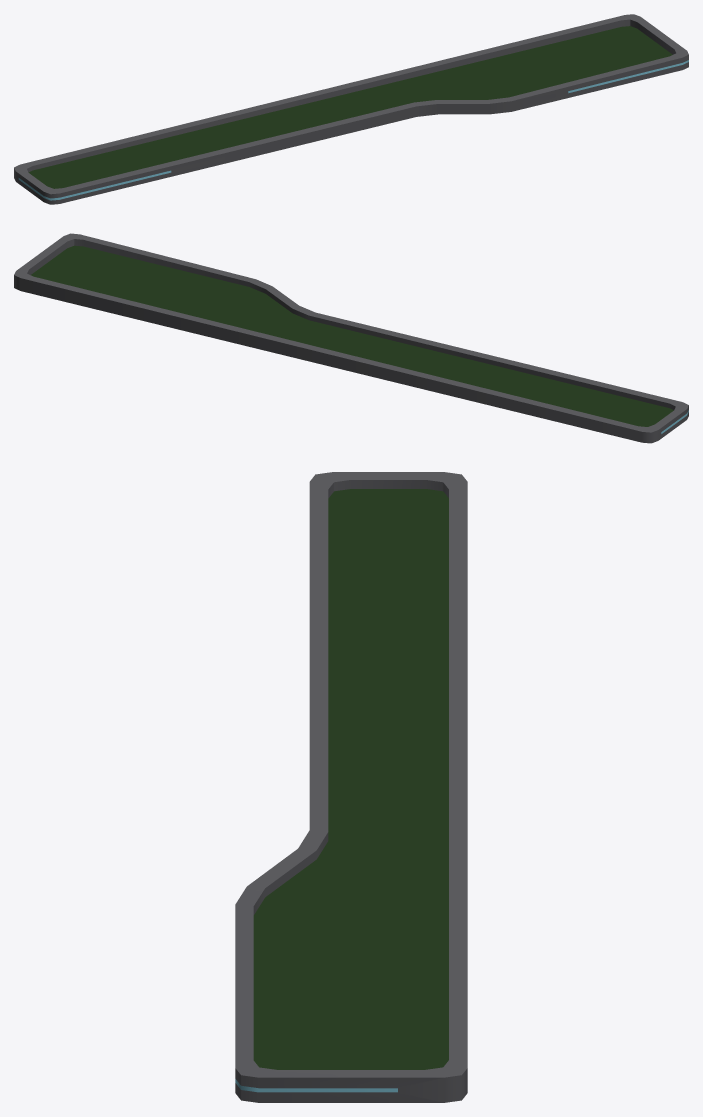
Rendered from W_O_FootpathDecor_001_b_L1.fbx.
3 renders of one model, top to bottom at view 1: azimuth 30°, elevation 25°; view 2: azimuth 150°, elevation 25°; view 3: azimuth 270°, elevation 25°, orthographic. The views are drawn at different scales.
Visible parts, largest first — view 1: W_O_FootpathDecor_001_b_L1; view 2: W_O_FootpathDecor_001_b_L1; view 3: W_O_FootpathDecor_001_b_L1.
Boxes of the visible parts, box(x1,y1,x2,y2) form: W_O_FootpathDecor_001_b_L1: box(14, 14, 688, 204); W_O_FootpathDecor_001_b_L1: box(14, 233, 688, 443); W_O_FootpathDecor_001_b_L1: box(235, 472, 467, 1102).
Bounding box in the file's own units: 6.2 × 0.12 × 0.9984.
